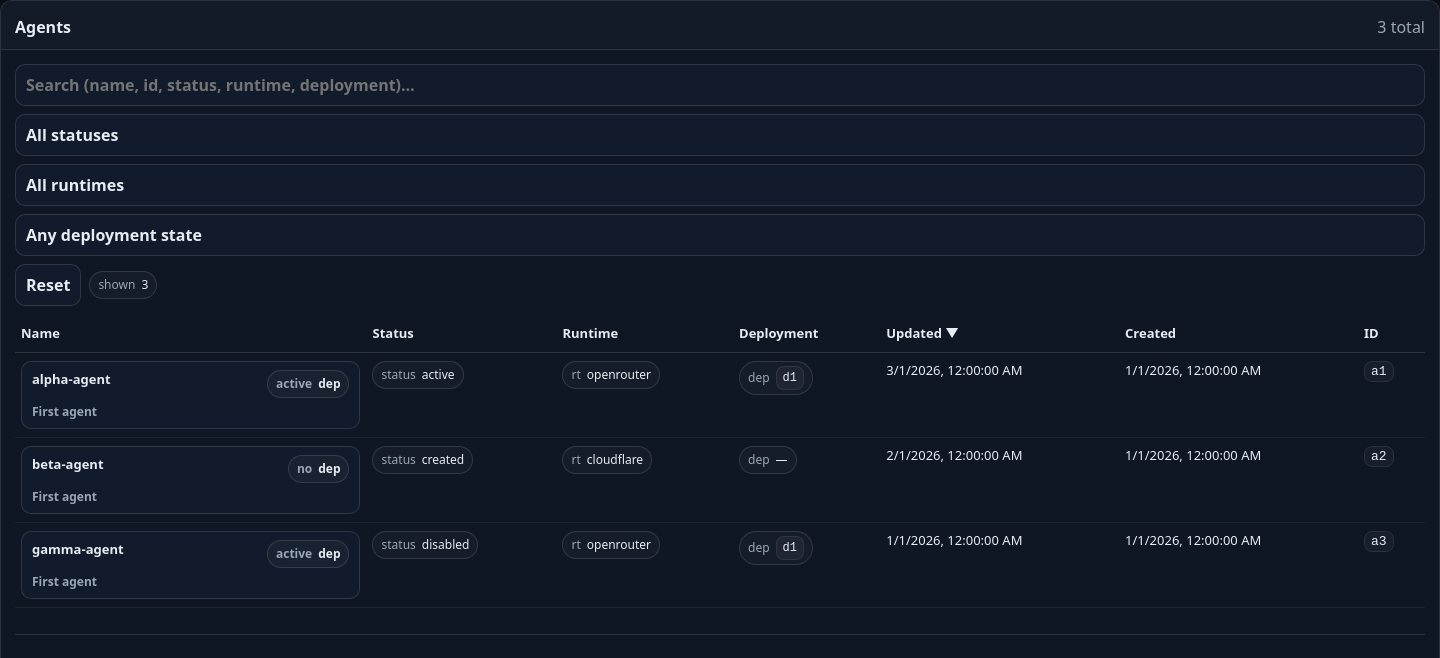
AgentsListPanel › shows 'No agents match' when search matches nothing
Type "zzzzz" into the field with placeholder "Search (name, id, status, runtime, deployment)…".
click(720, 85); type("zzzzz")  # box [15,64,1425,106]
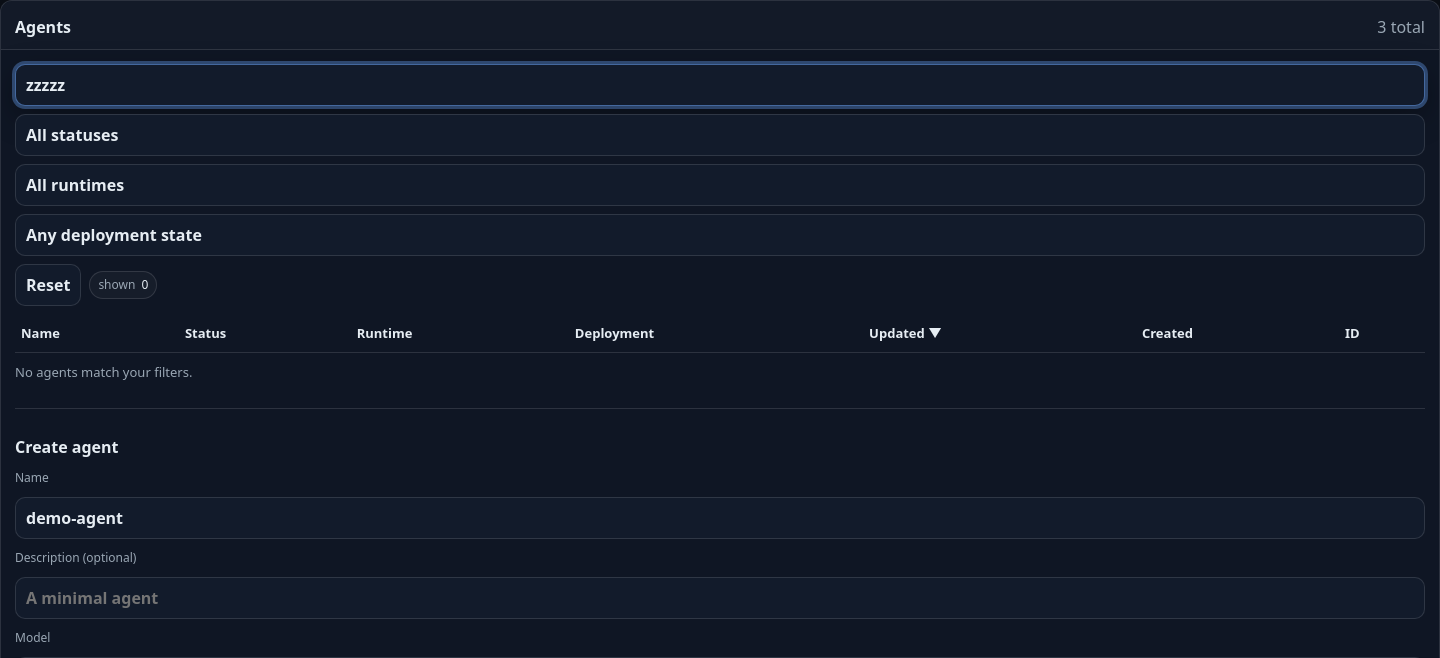
Check: the text "No agents match your filters." is shown, box [15,362,192,380]
